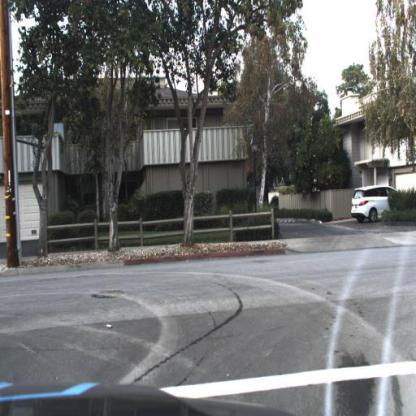car: (350, 184, 400, 224), (352, 186, 404, 222)
